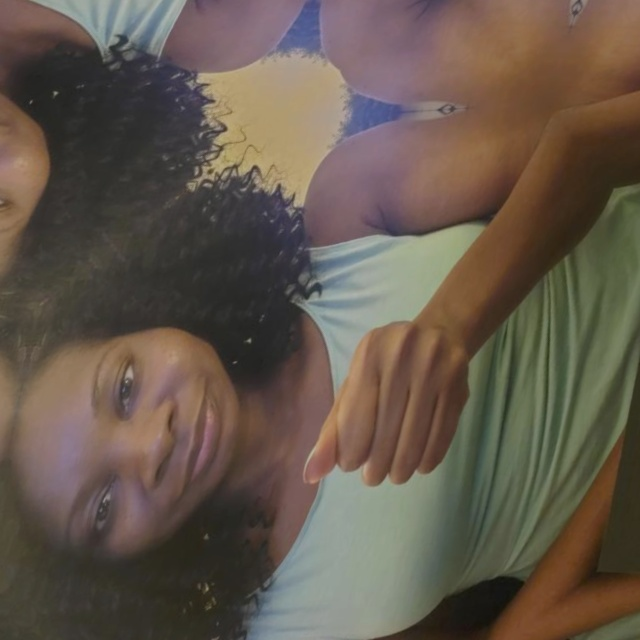Rock: (0, 0, 213, 124)
